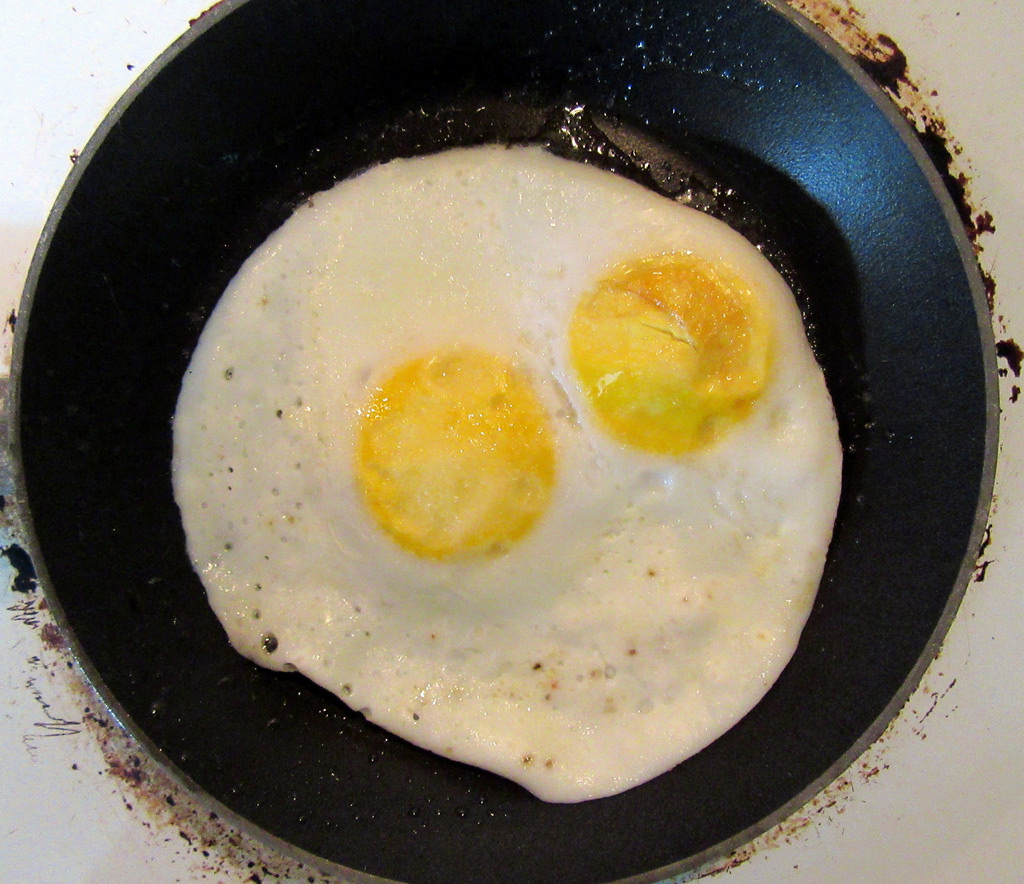fried egg: (219, 221, 827, 785)
